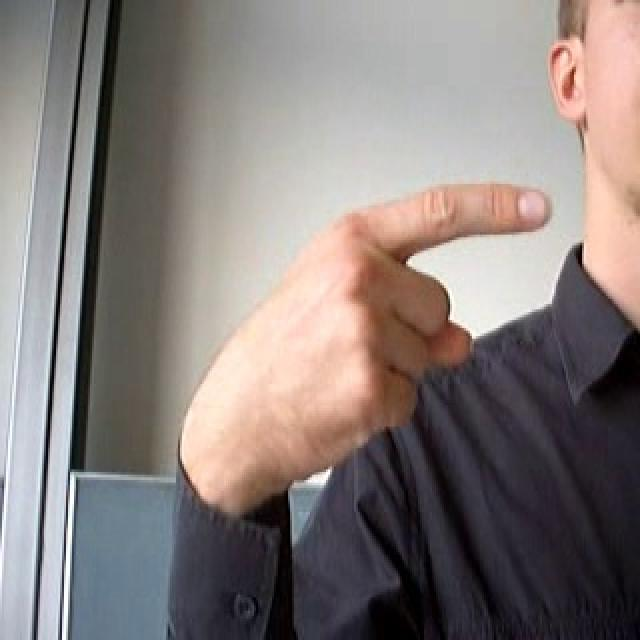G: (156, 151, 561, 521)
